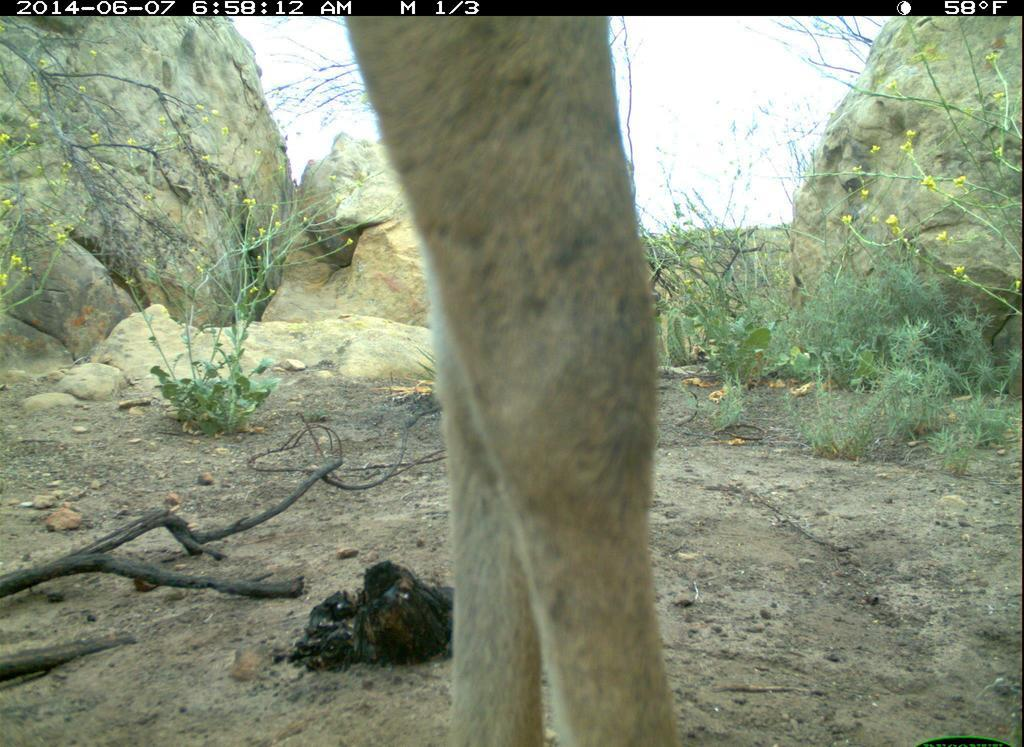deer: (259, 2, 688, 745)
